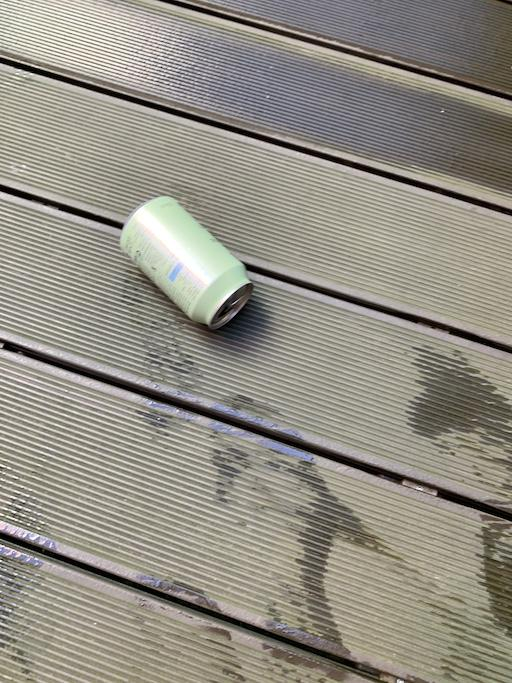Aluminum can: (98, 183, 283, 342)
